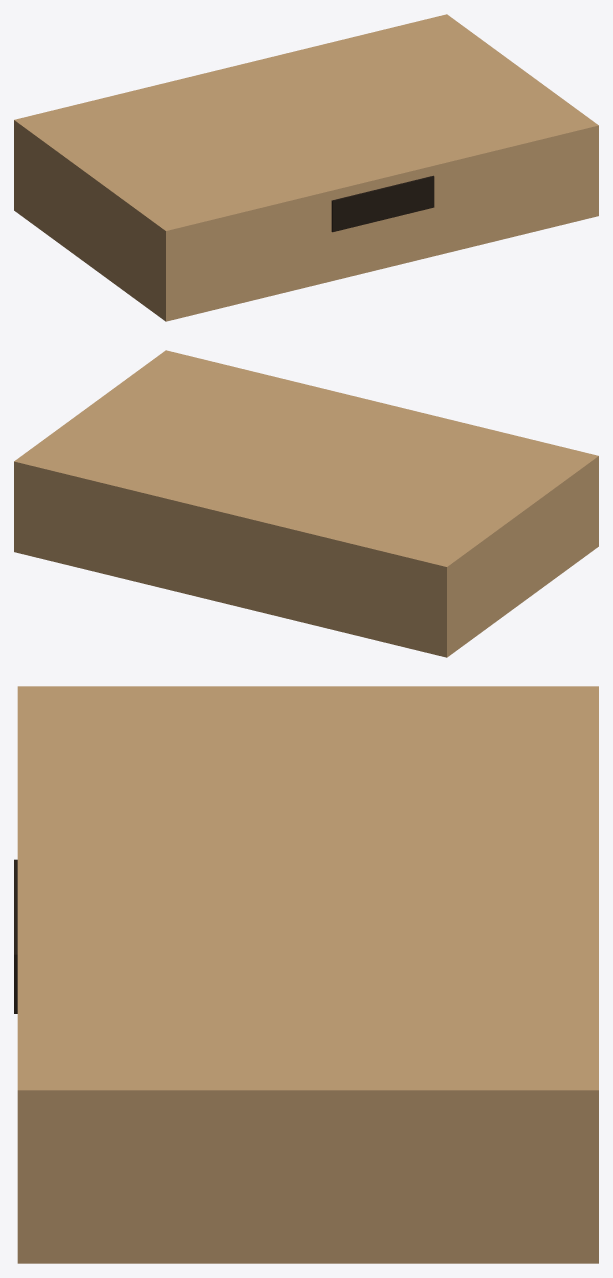
File: applebox-mezzo.glb
The picture shows the model from 3 angles, top to bottom: view 1: azimuth 30°, elevation 25°; view 2: azimuth 150°, elevation 25°; view 3: azimuth 270°, elevation 25°; orthographic projection. The views are drawn at different scales.
Size of the model in its own units: 0.51 by 0.102 by 0.312.
